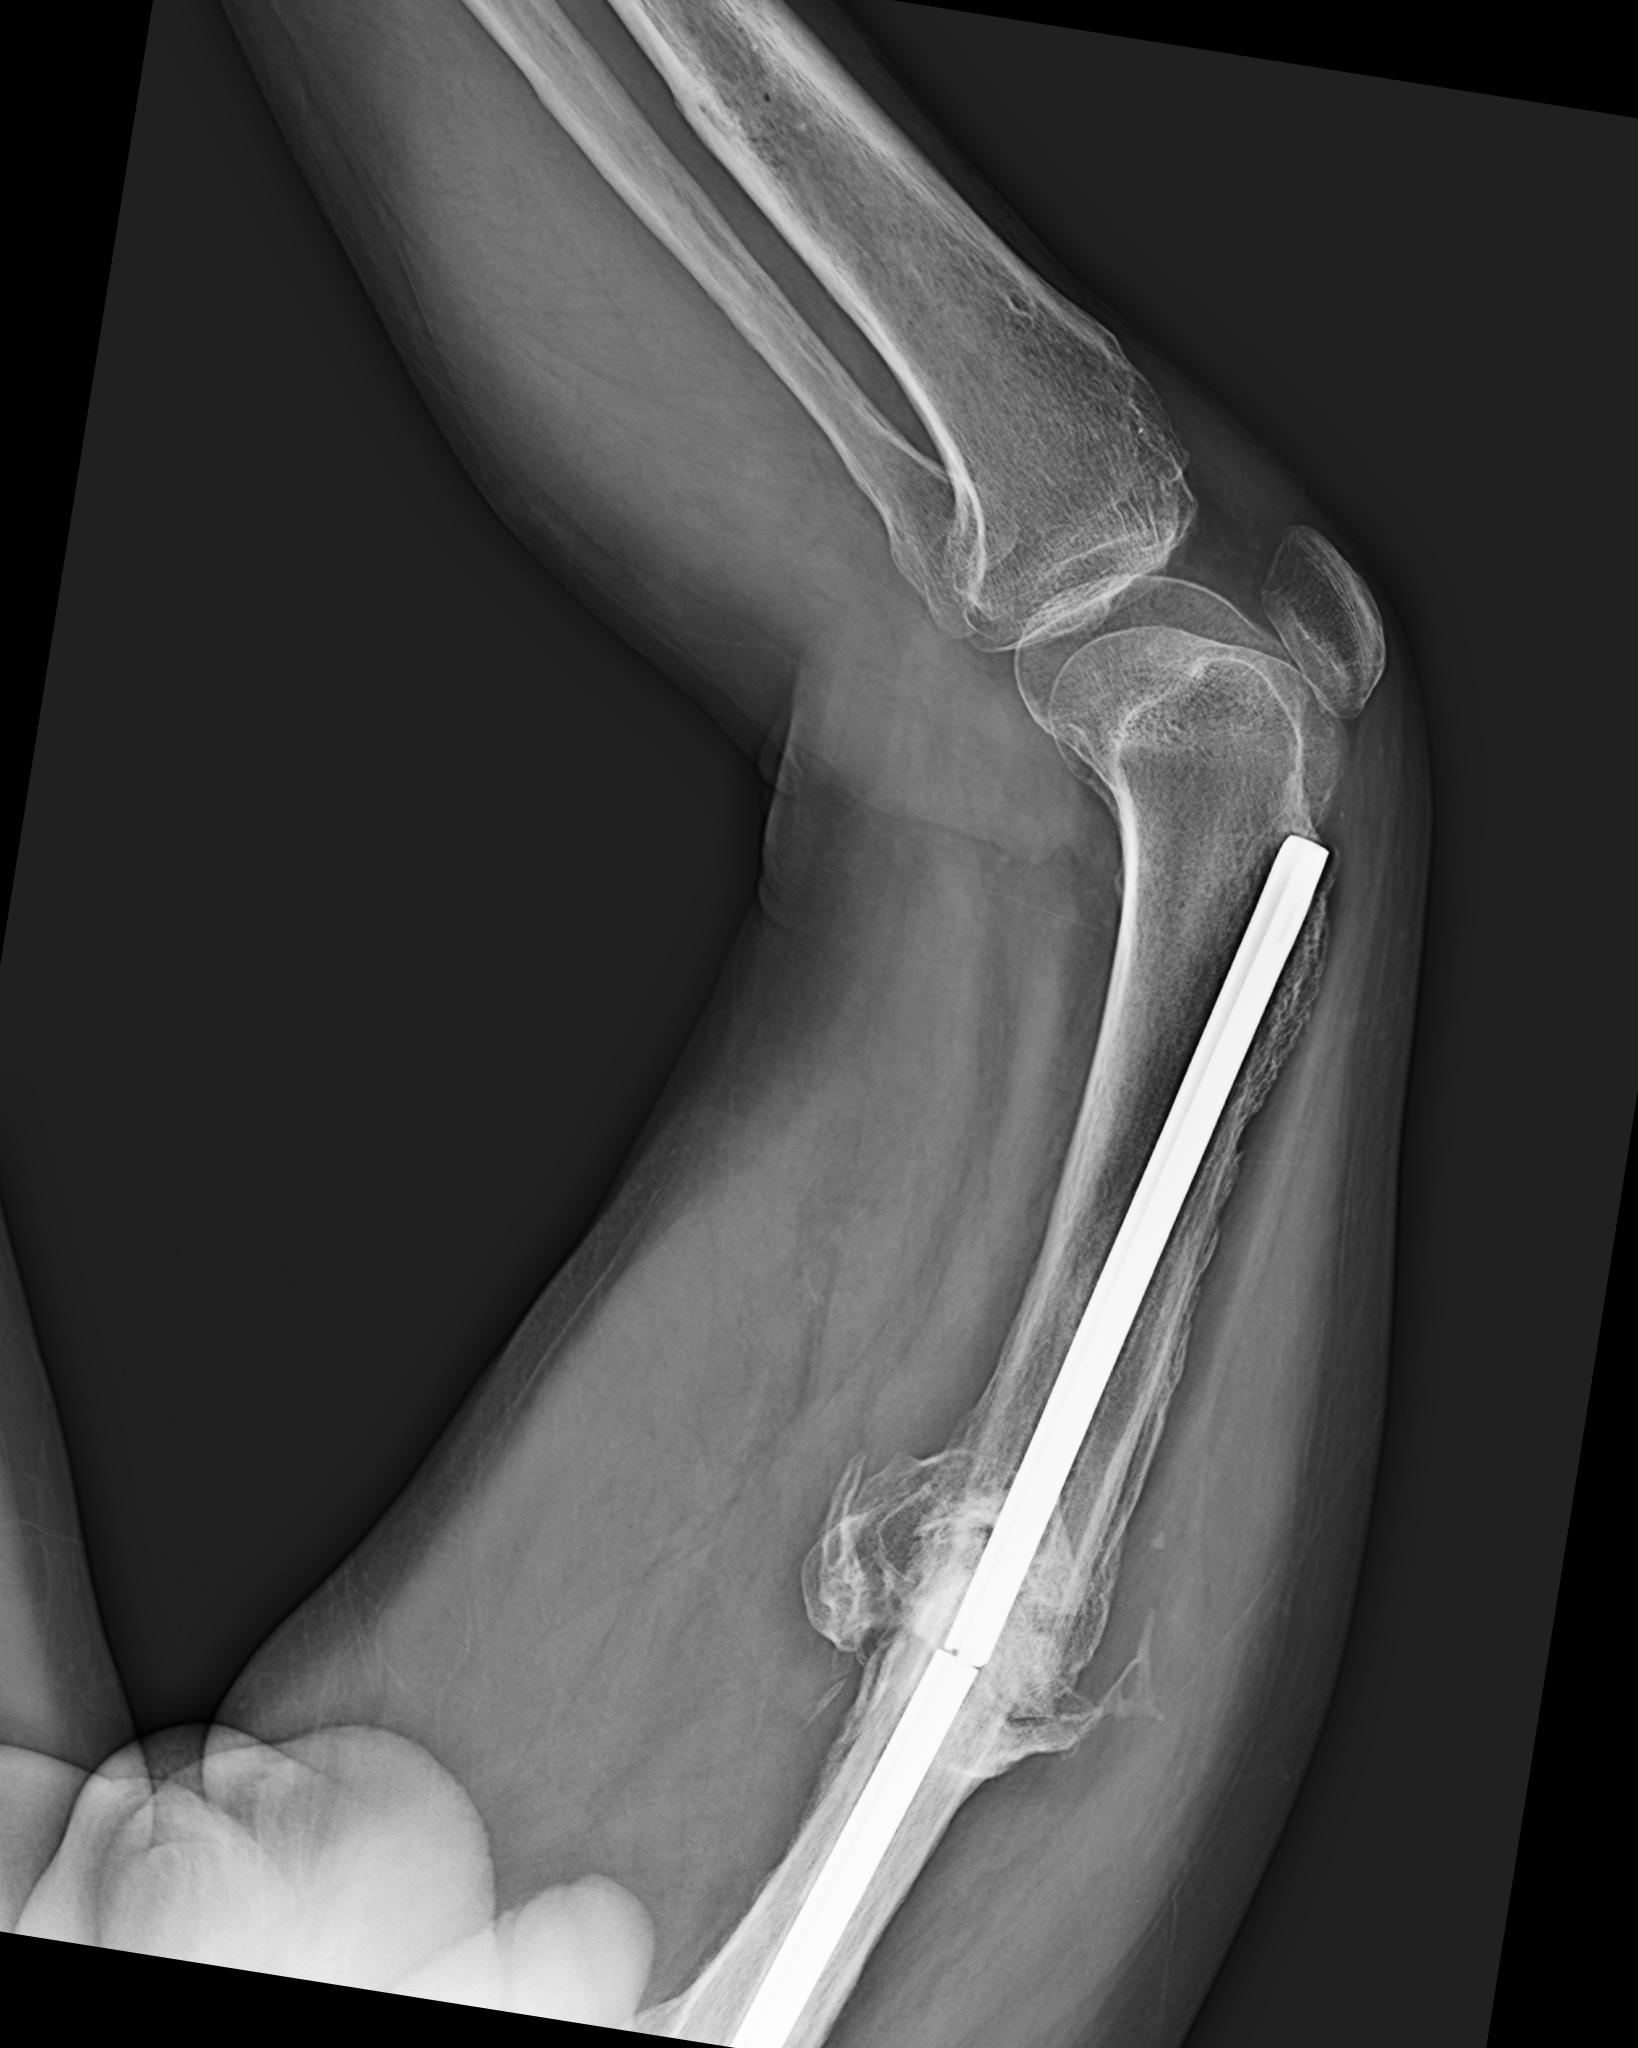fractured: (787, 1441, 1105, 1797)
